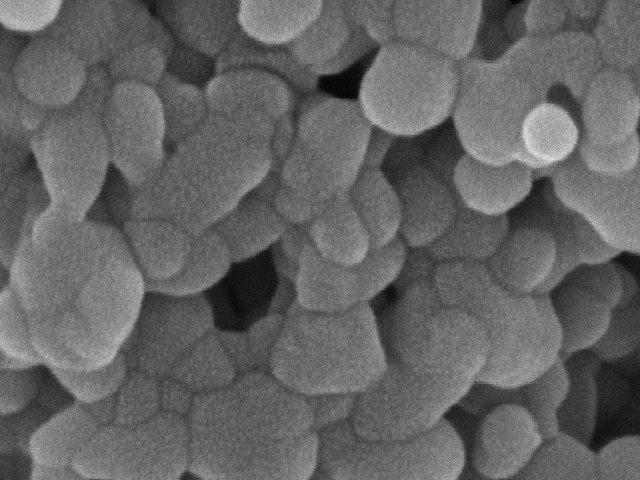nano: (356, 41, 461, 137), (519, 96, 589, 170)
